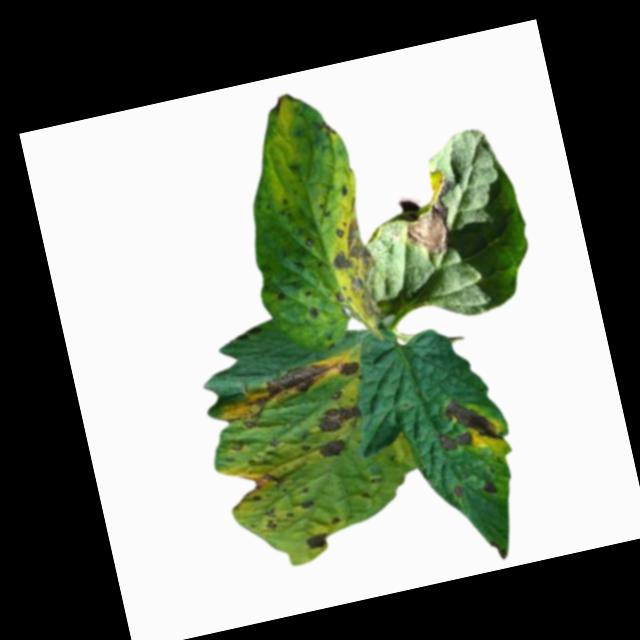Early_blight: (325, 212, 388, 329), (393, 167, 467, 262), (243, 358, 339, 413), (445, 393, 499, 449), (315, 401, 362, 437), (436, 426, 475, 457), (314, 436, 349, 463), (247, 470, 285, 494), (267, 93, 299, 117), (335, 358, 361, 381), (259, 507, 280, 534), (305, 532, 331, 551), (479, 479, 498, 499), (451, 483, 466, 503), (308, 306, 323, 324), (298, 501, 313, 514)
